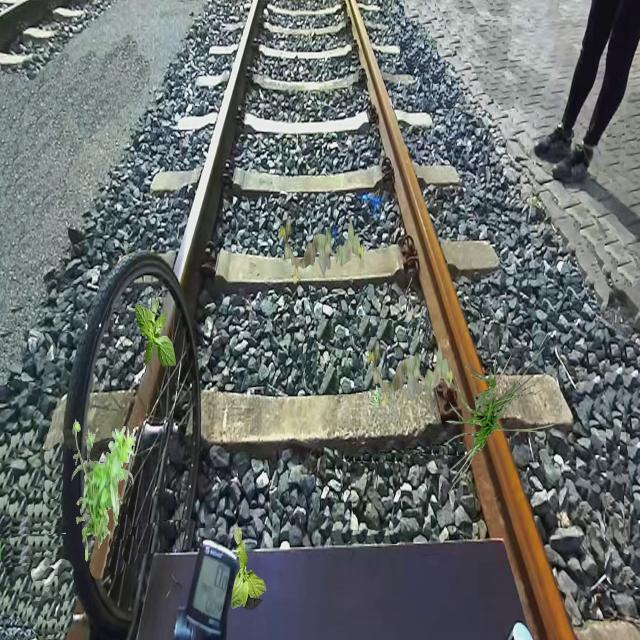Plant: (438, 331, 556, 494), (72, 418, 136, 562), (367, 340, 454, 408), (278, 216, 364, 284), (135, 298, 176, 369), (231, 527, 266, 610), (369, 385, 383, 406)
